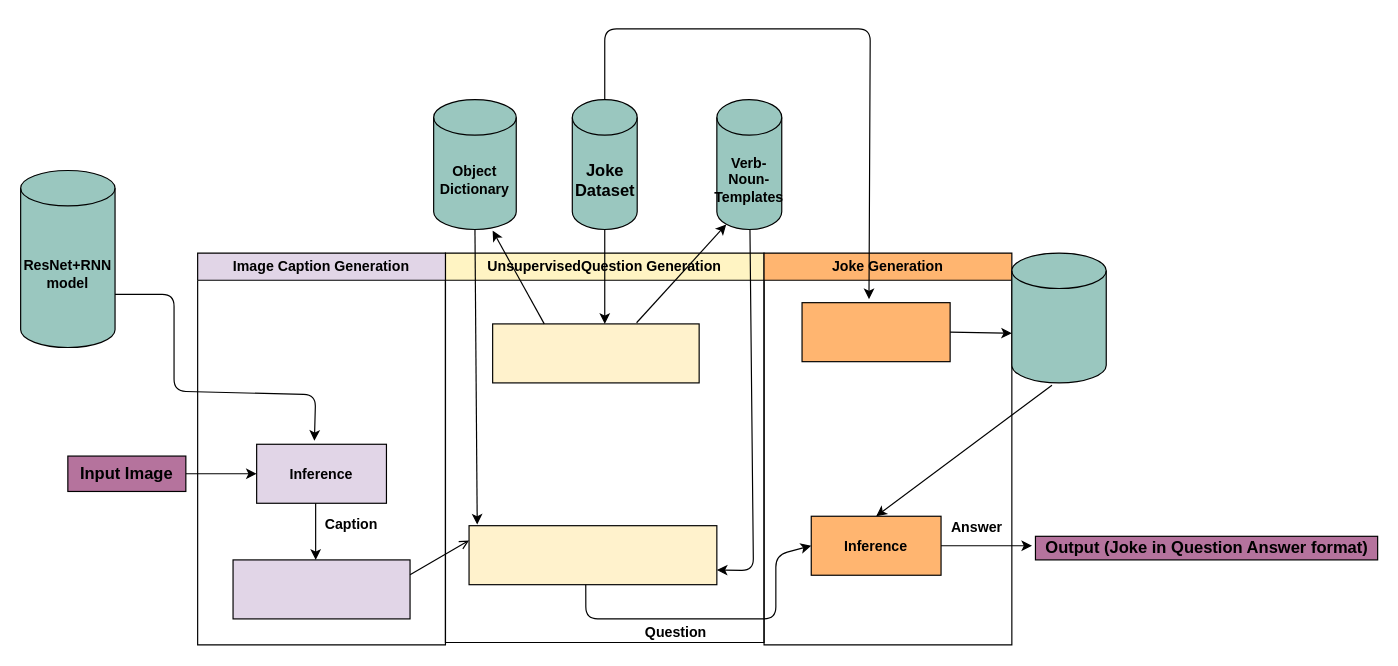
This 1398x666 diagram has some shape labels left out. Each missing label, with the centre of its shape:
"FInetuned Joke Generation model" belongs at pixel 1058 317.
"Phrase Extraction (NP,VB)" belongs at pixel 321 589.
"Template Generation" belongs at pixel 595 353.
"Training(GPT2 model)" belongs at pixel 875 331.
"Unsupervised Question Generation" belongs at pixel 592 555.
